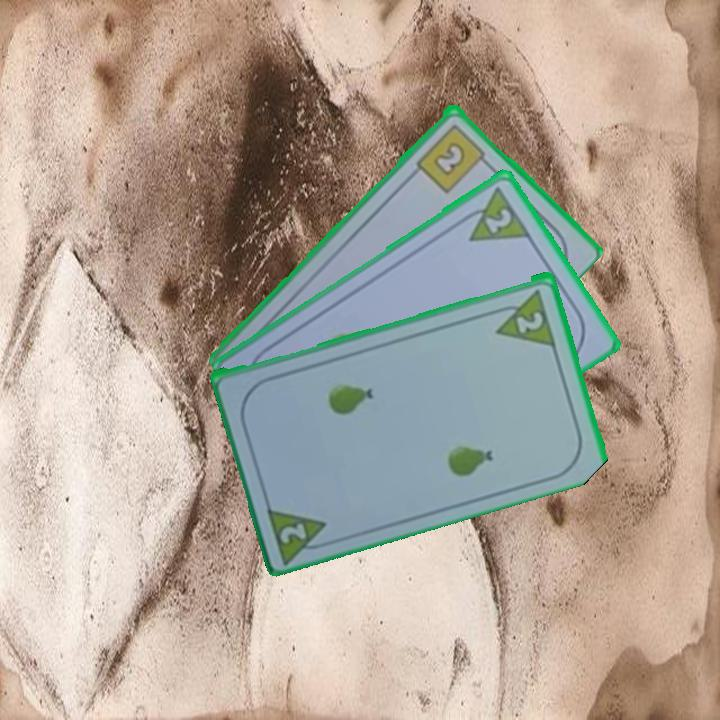2b: (412, 119, 493, 196)
2p: (455, 182, 534, 245), (512, 307, 547, 336), (276, 518, 310, 546)
